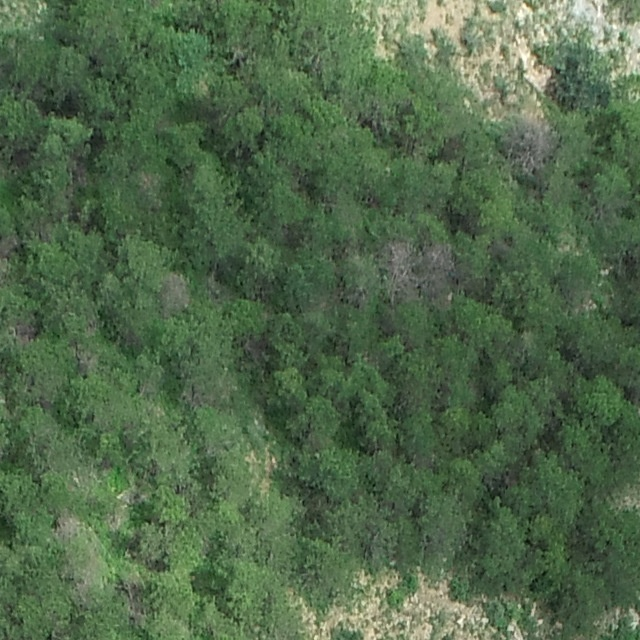unhealthy: (501, 118, 555, 178), (378, 239, 417, 301), (422, 240, 458, 295), (159, 270, 191, 313), (0, 228, 18, 283)
